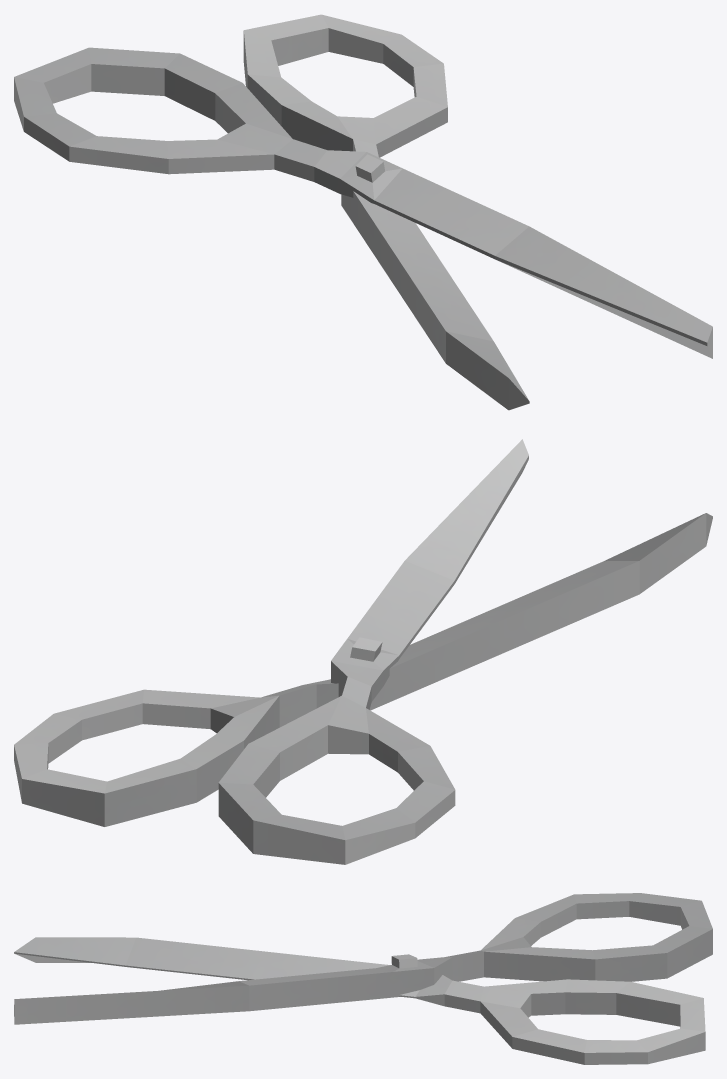
The model's file is scissors.glb.
3 views of the same model, one above another, from view 1: azimuth 30°, elevation 25°; view 2: azimuth 150°, elevation 25°; view 3: azimuth 270°, elevation 25° (orthographic). The views are drawn at different scales.
Visible parts, largest first — view 1: scissor_blade_right, scissor_blade_left; view 2: scissor_blade_left, scissor_blade_right; view 3: scissor_blade_right, scissor_blade_left.
Boxes of the visible parts, x1=… form: scissor_blade_right: x1=14, y1=47, x2=712, y2=358; scissor_blade_left: x1=243, y1=14, x2=529, y2=410; scissor_blade_left: x1=14, y1=513, x2=712, y2=826; scissor_blade_right: x1=218, y1=439, x2=528, y2=864; scissor_blade_right: x1=14, y1=893, x2=712, y2=1024; scissor_blade_left: x1=14, y1=937, x2=705, y2=1064.
Bounding box in the file's own units: 0.0983 × 0.0135 × 0.1958.
Materials: 1 (1 with a texture image).
